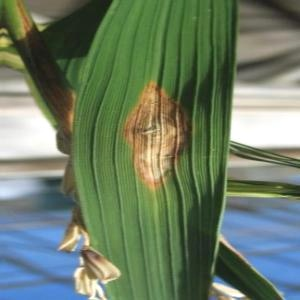Brown_Spot: (107, 65, 201, 197)
